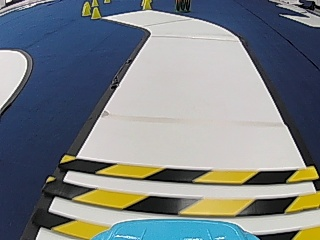bump: (60, 163, 297, 232)
